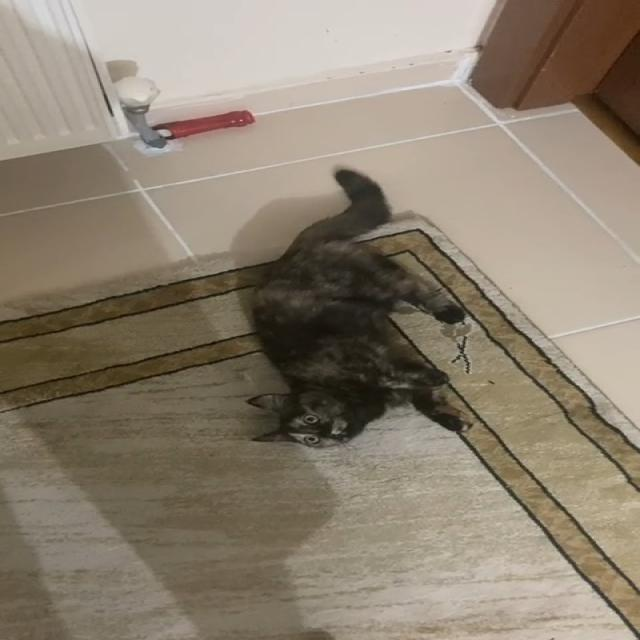authorized: (244, 164, 473, 448)
